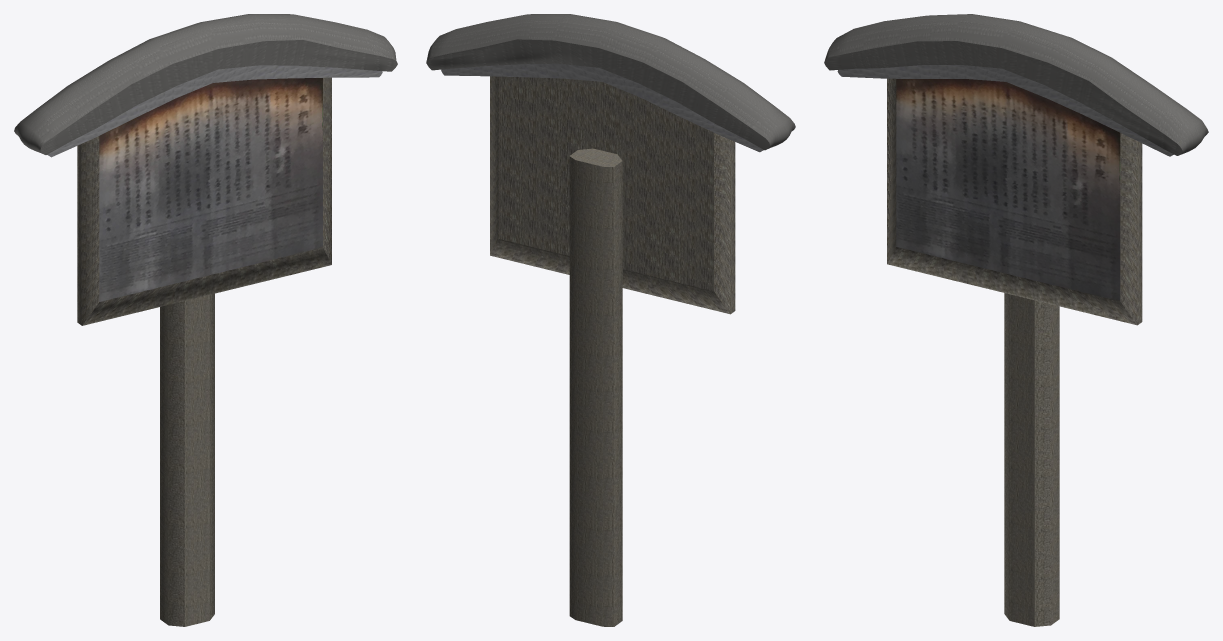
The model's file is Japanese Sign.fbx.
3 views of the same model, side by side, from view 1: azimuth 30°, elevation 25°; view 2: azimuth 150°, elevation 25°; view 3: azimuth 330°, elevation 25° (orthographic). The views are drawn at different scales.
Parts seen in each view (by area): view 1: pCube2; view 2: pCube2; view 3: pCube2.
Boxes of the visible parts, box(x1,y1,x2,y2) form: pCube2: box(14, 14, 397, 626); pCube2: box(426, 14, 795, 626); pCube2: box(824, 14, 1208, 626).
Size of the model in its own units: 313 by 55.21 by 491.
